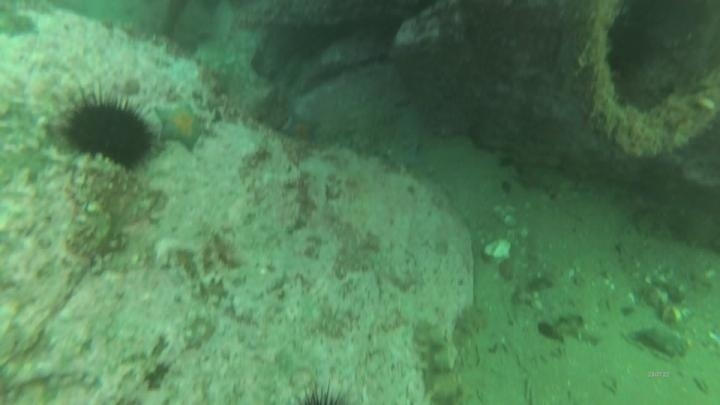echinus: (60, 89, 158, 171), (281, 373, 362, 405)
holothurian: (411, 319, 465, 405)
starfish: (152, 100, 211, 154), (279, 110, 323, 144)
